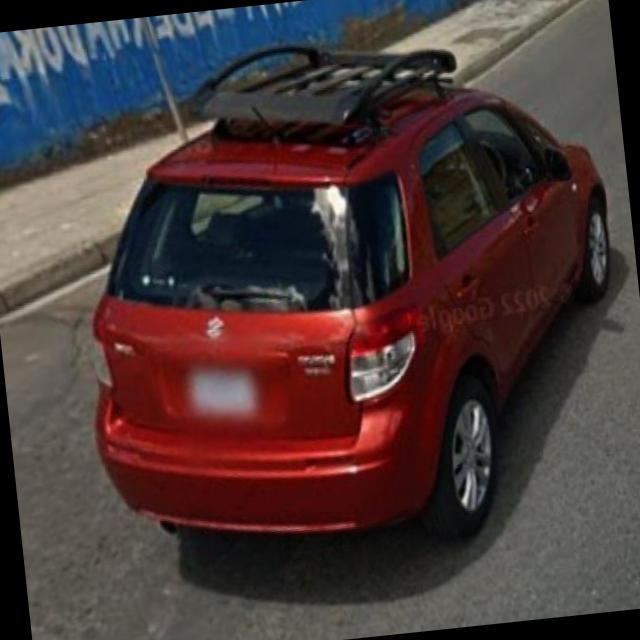car: (51, 32, 640, 571)
